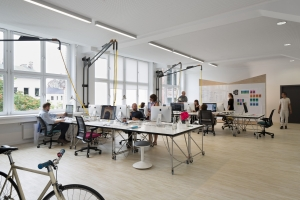chair: (74, 115, 102, 159), (35, 116, 65, 150), (253, 109, 276, 138), (199, 110, 217, 137)
